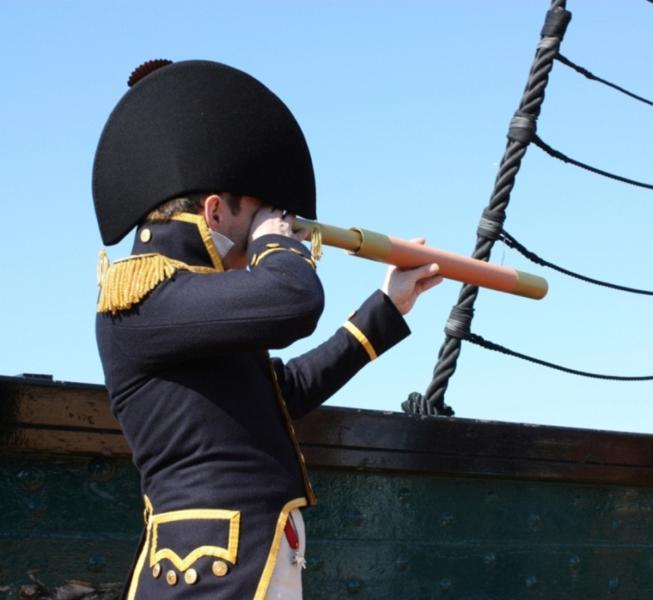person: (97, 57, 443, 599)
